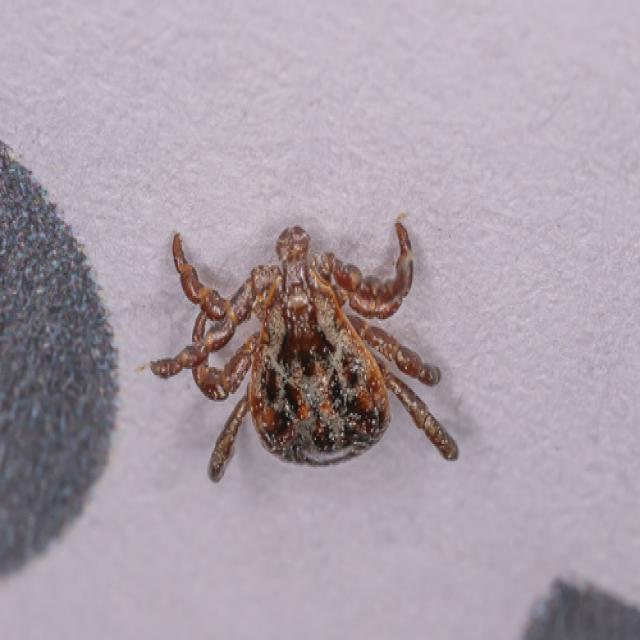Dermacentor Reticulatus-M: (146, 221, 460, 480)
